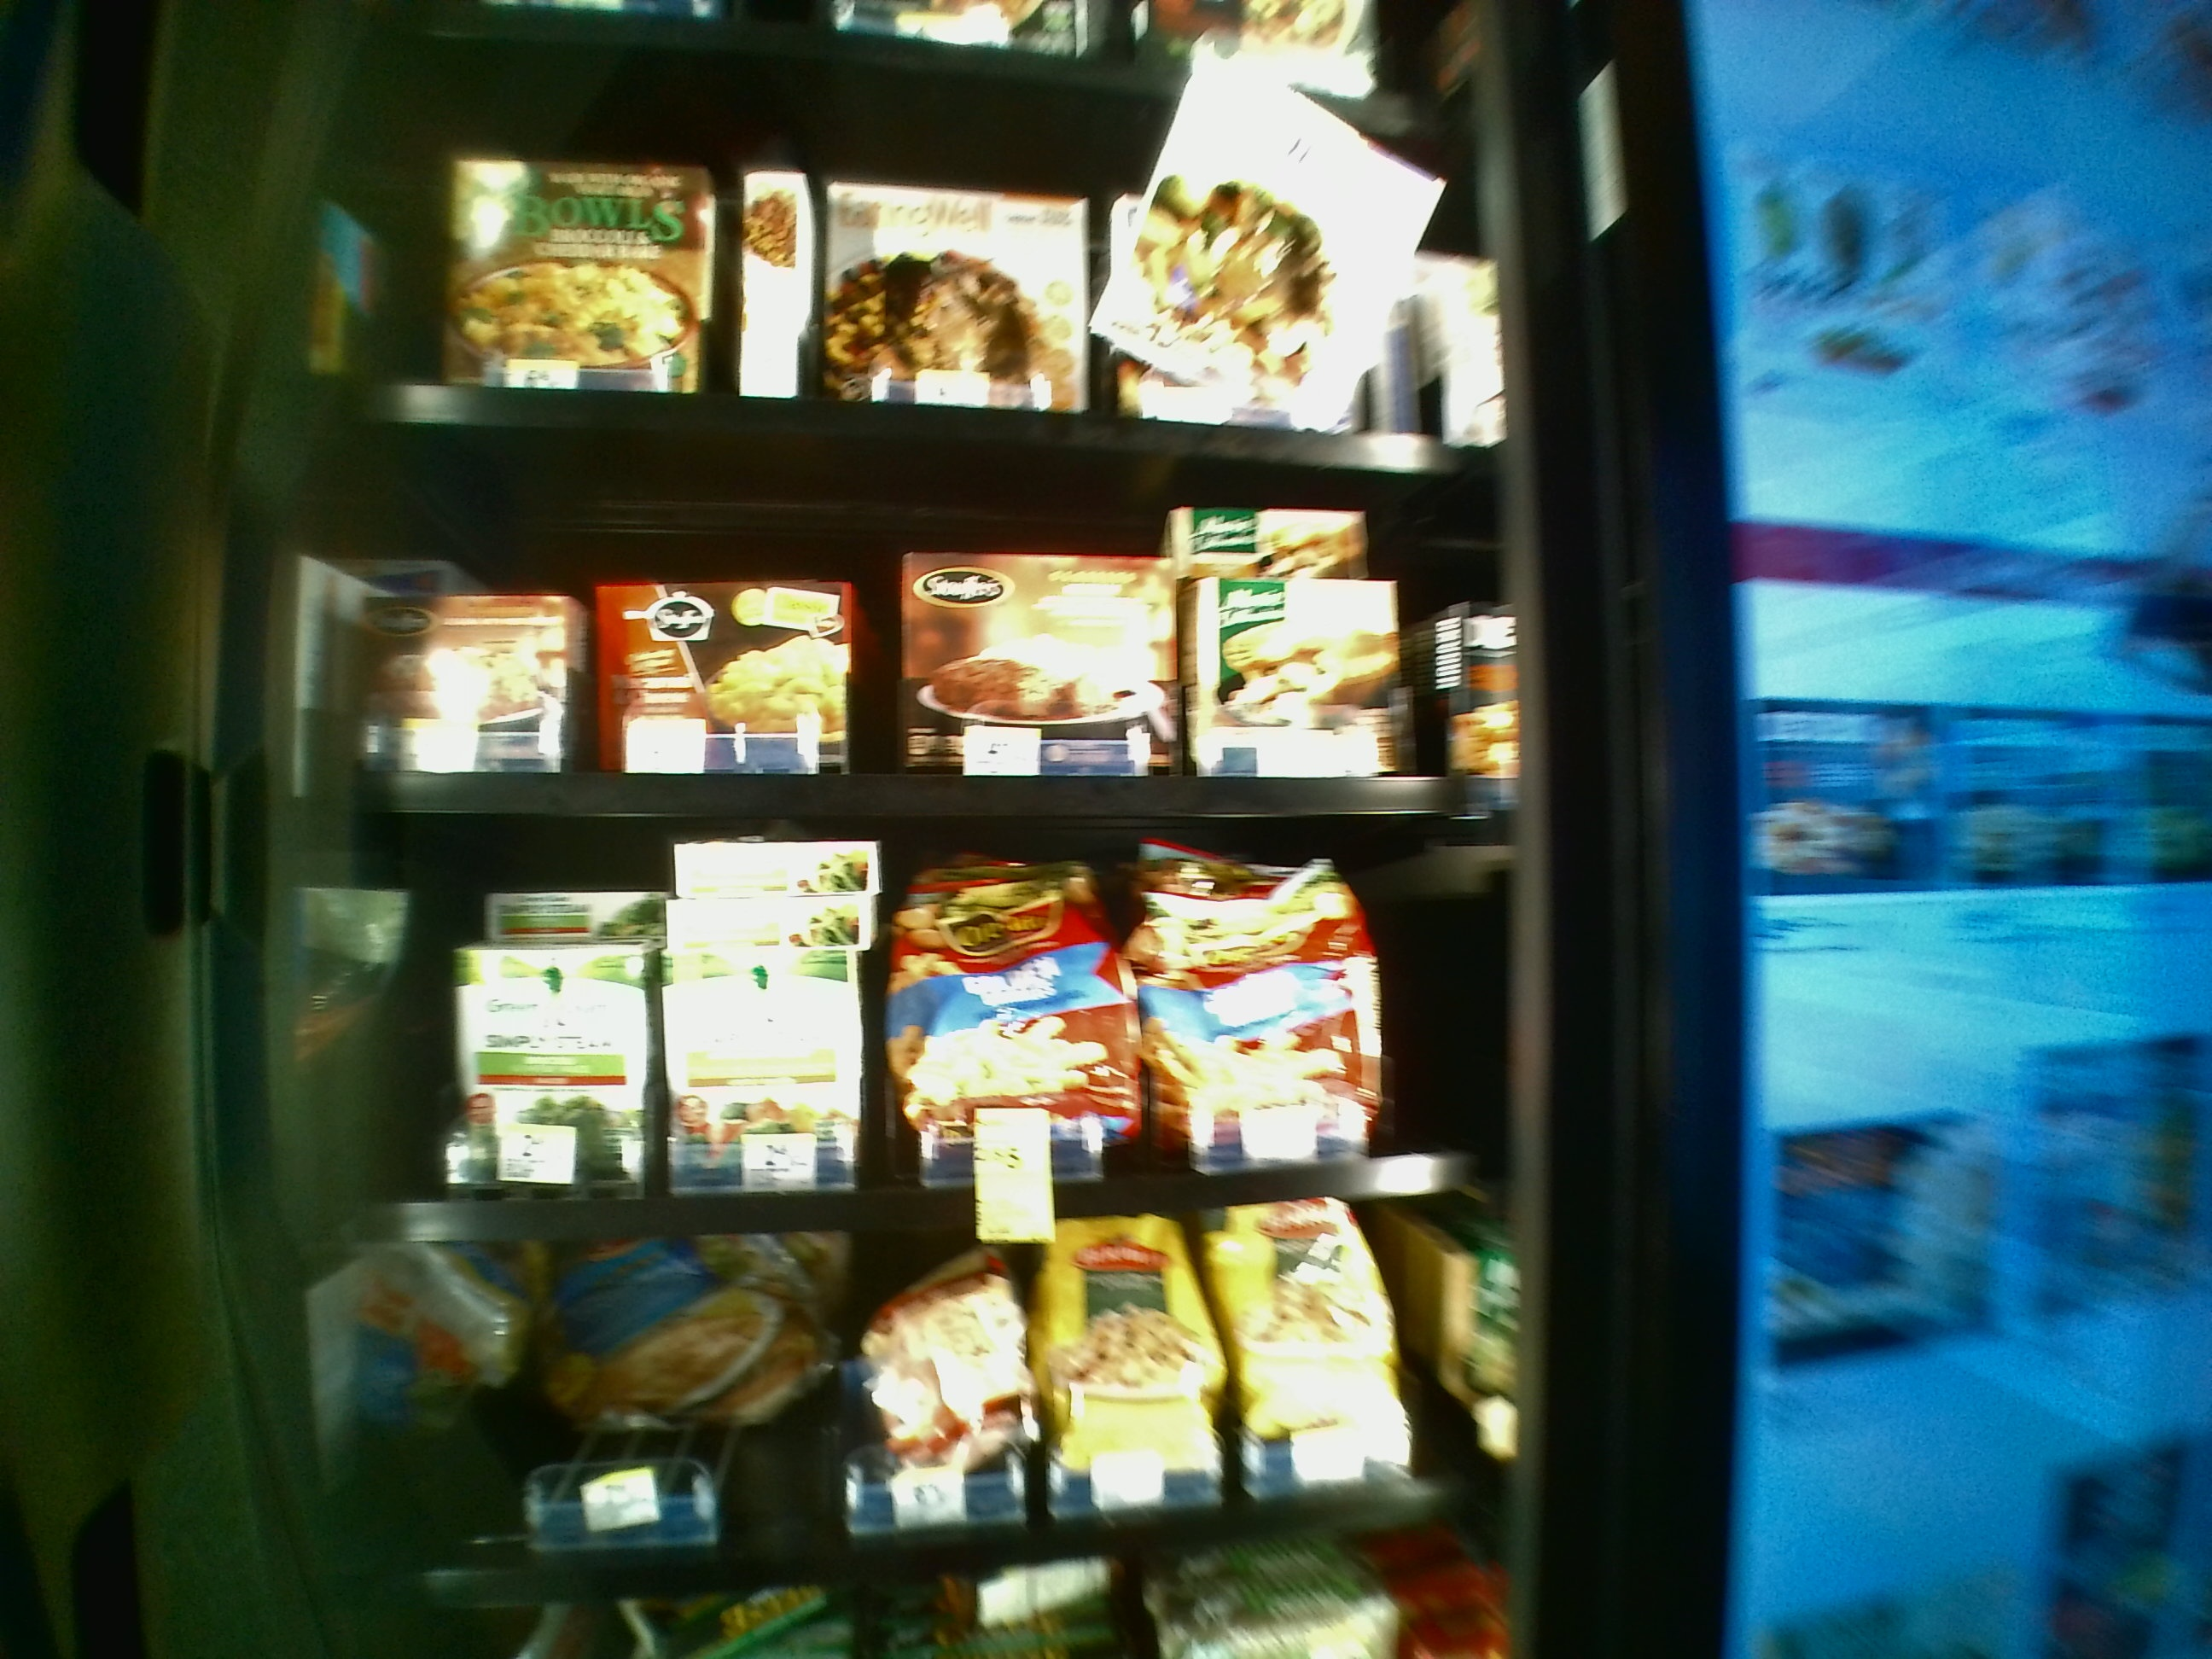shelf: (347, 831, 1503, 1244), (348, 425, 1496, 819)
